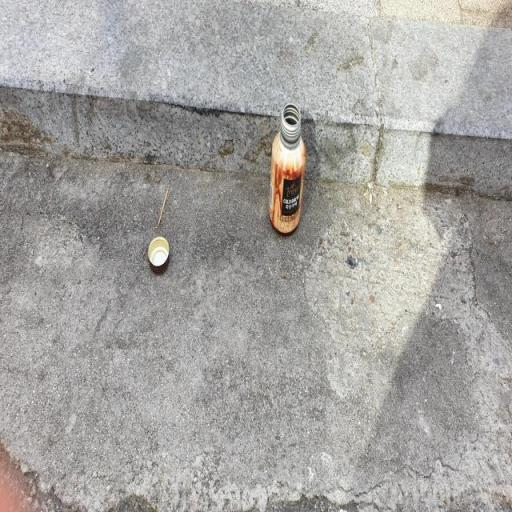metal: (262, 93, 327, 286)
